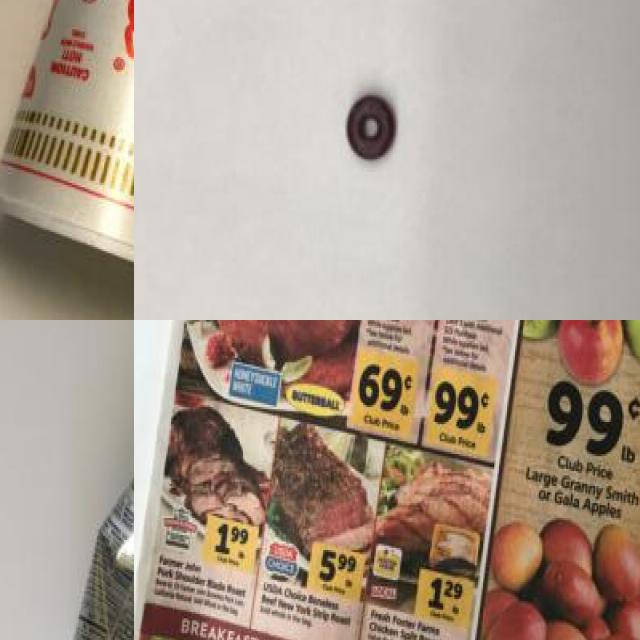compost: (330, 83, 412, 185)
paper: (134, 320, 640, 640)
plastic: (64, 429, 134, 640)
trash: (0, 0, 134, 319)
